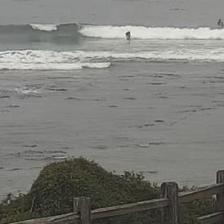surfer: (125, 31, 131, 38), (217, 19, 223, 26)
